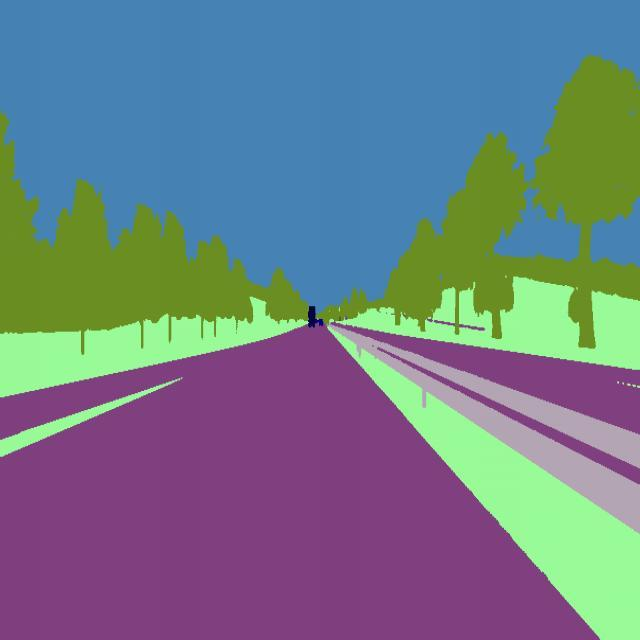safe: (307, 300, 318, 329), (318, 318, 325, 332)
